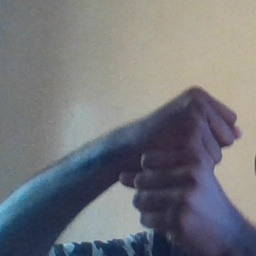G: (131, 83, 243, 239)
